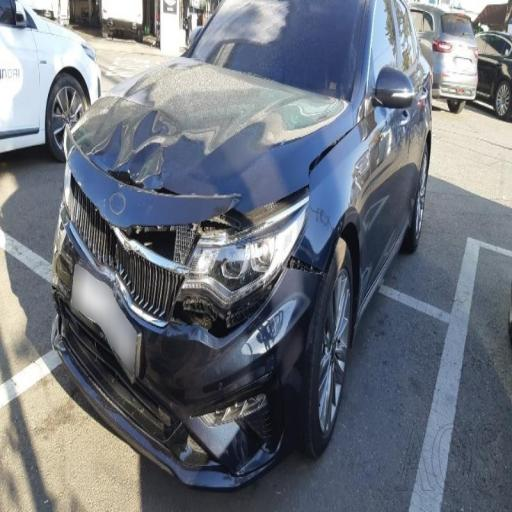broken: (102, 165, 270, 367)
dent: (102, 113, 178, 206)
